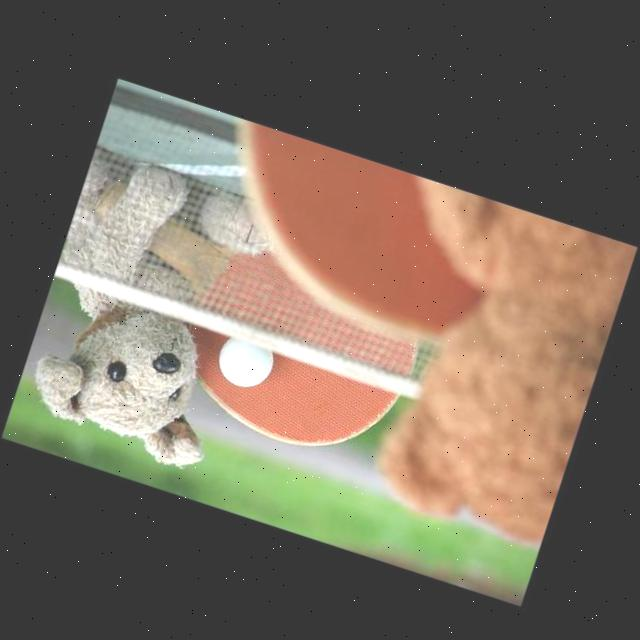ping-pong-ball: (212, 324, 282, 394)
